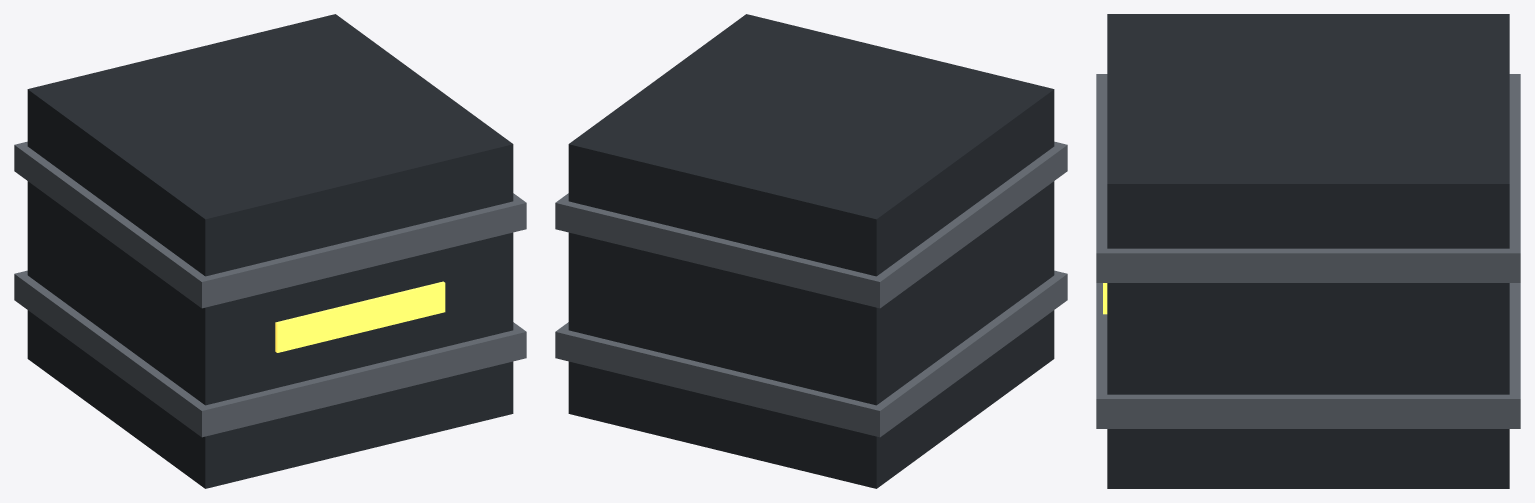
The model's file is Modle_Prop_Crate.fbx.
The picture shows the model from 3 angles, left to right: view 1: azimuth 30°, elevation 25°; view 2: azimuth 150°, elevation 25°; view 3: azimuth 270°, elevation 25°; orthographic projection. The views are drawn at different scales.
Visible parts, largest first — view 1: Modle_Prop_Crate; view 2: Modle_Prop_Crate; view 3: Modle_Prop_Crate.
Boxes of the visible parts, x1,y1,x2,y2 form: Modle_Prop_Crate: [14, 14, 526, 488]; Modle_Prop_Crate: [555, 14, 1067, 488]; Modle_Prop_Crate: [1096, 14, 1520, 488].
Bounding box in the file's own units: 1.16 × 0.92 × 1.16.
